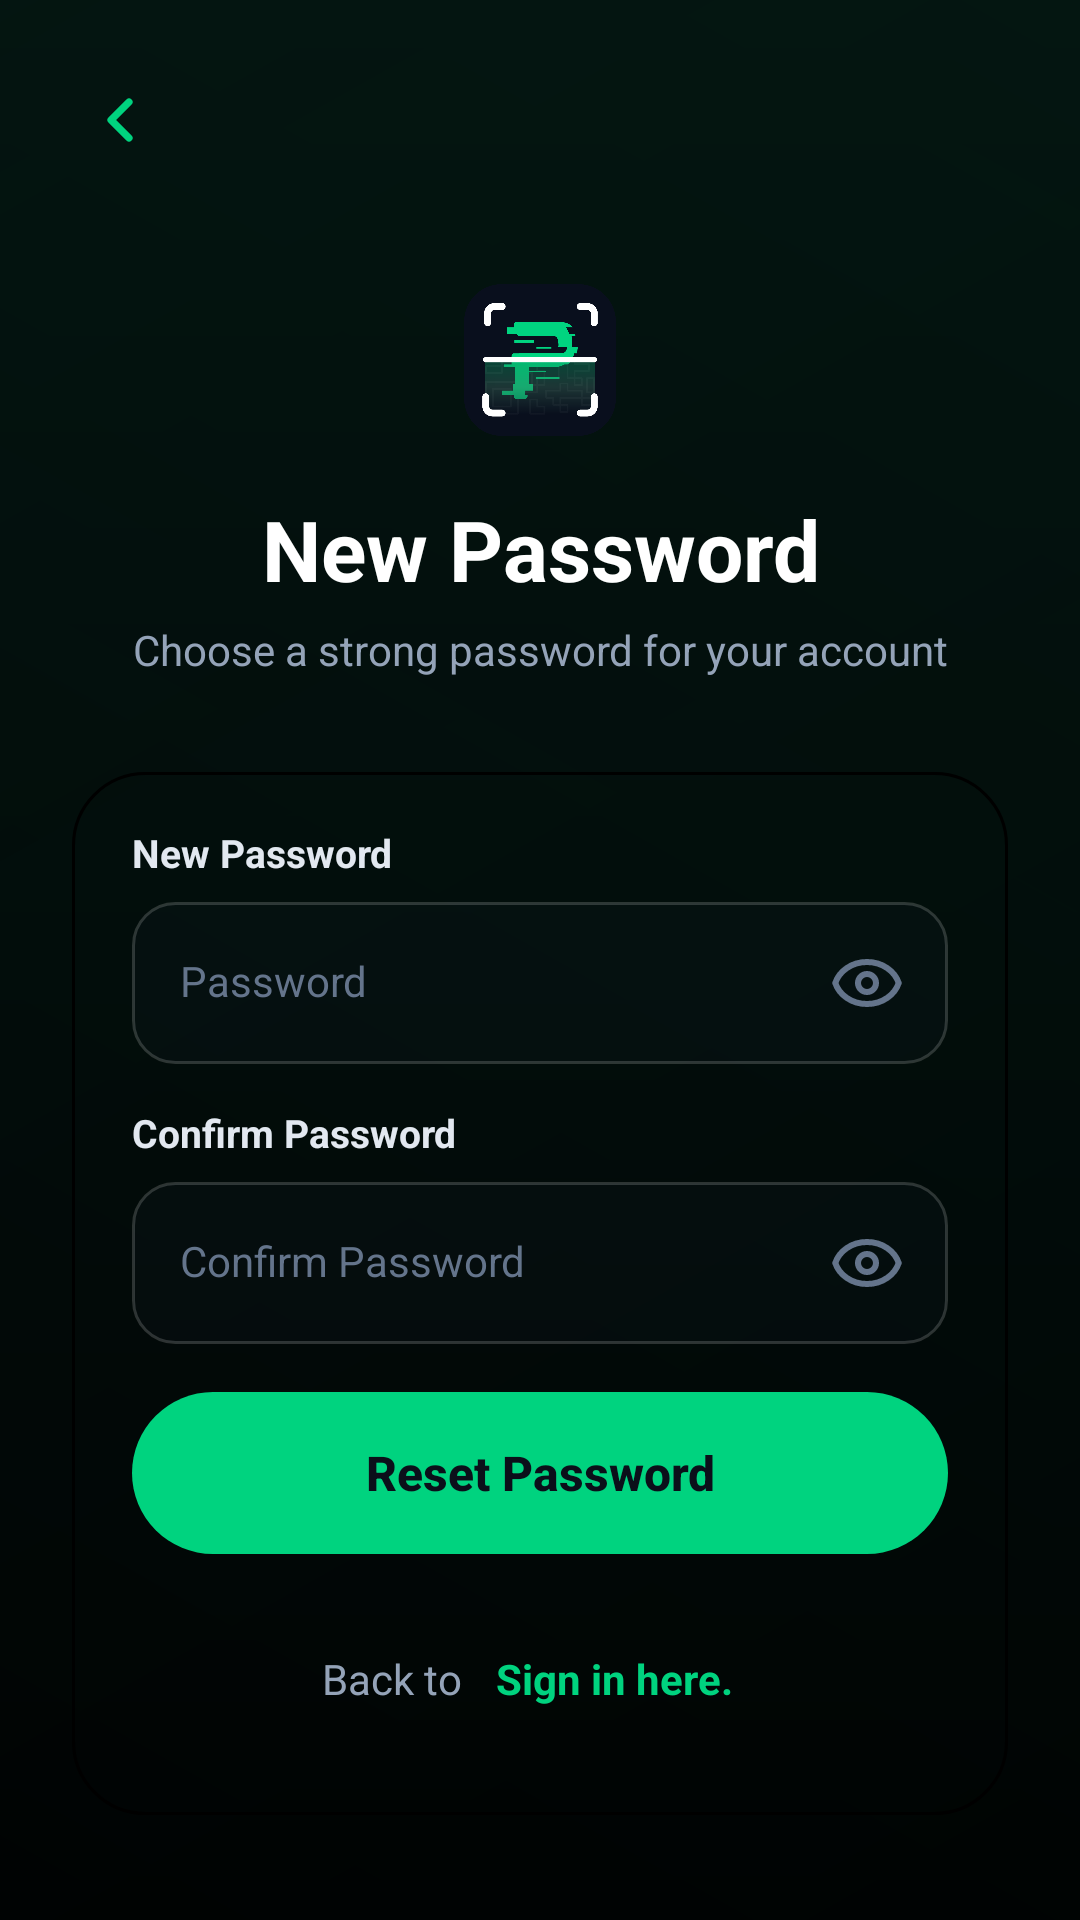

Icons on this 1080w x 1920h Android screen, each with its box as (x1, y1, x2, y2):
arrow back: (107, 98, 133, 142)
